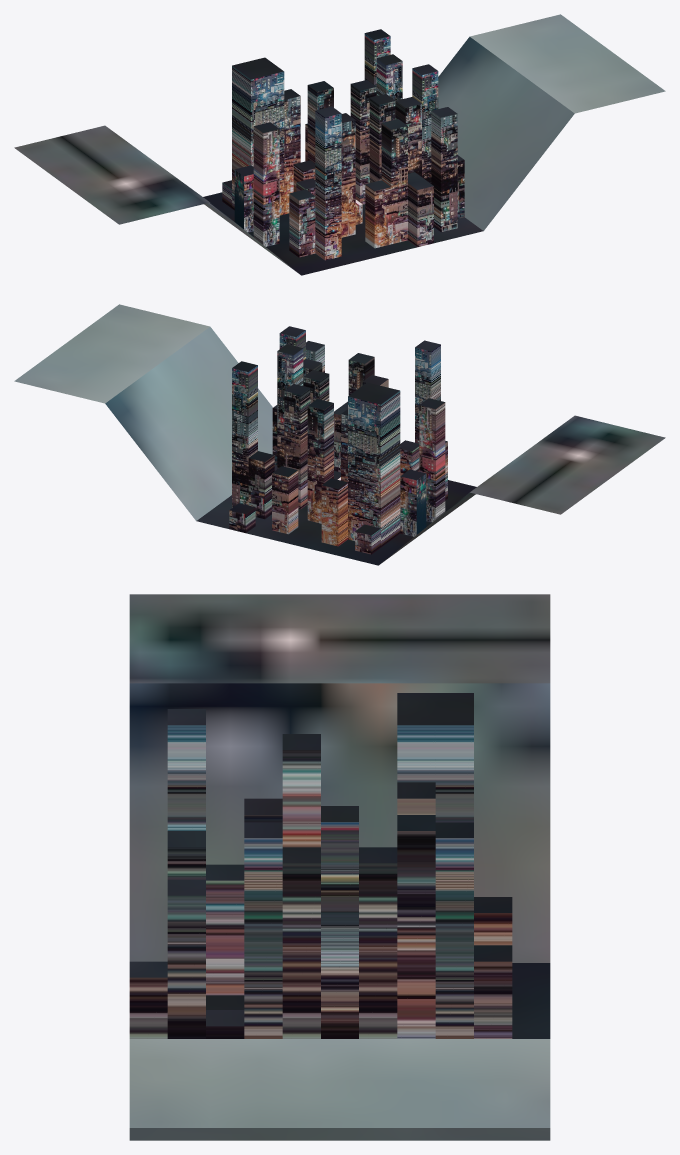
File: block2.fbx
3 views of the same model, one above another, from view 1: azimuth 30°, elevation 25°; view 2: azimuth 150°, elevation 25°; view 3: azimuth 270°, elevation 25° (orthographic). The views are drawn at different scales.
Visible parts, largest first — view 1: Plane; view 2: Plane; view 3: Plane.
Part boxes in pixels (<box>): Plane: <box>14,14,665,275</box>; Plane: <box>14,304,665,565</box>; Plane: <box>129,594,550,1140</box>.
Size of the model in its own units: 600 by 150 by 200.
Materials: 1 (1 with a texture image).
